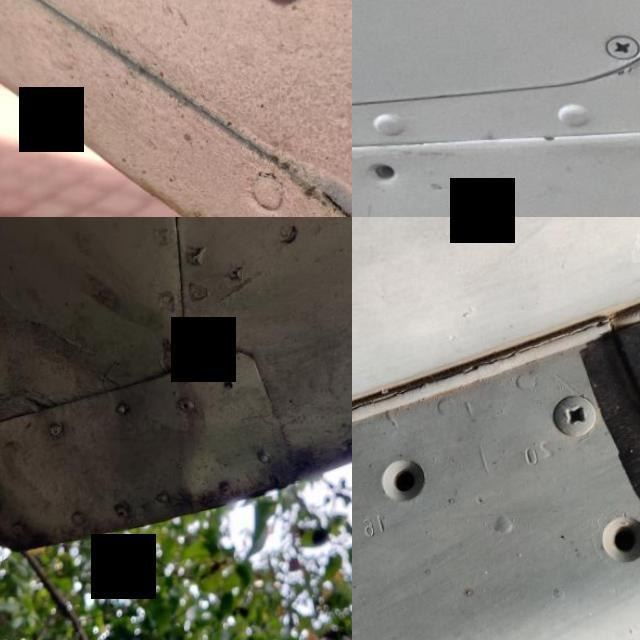Dent: (0, 277, 226, 578)
Missing_Fastener: (352, 432, 451, 535), (570, 486, 640, 604), (354, 160, 404, 190)
